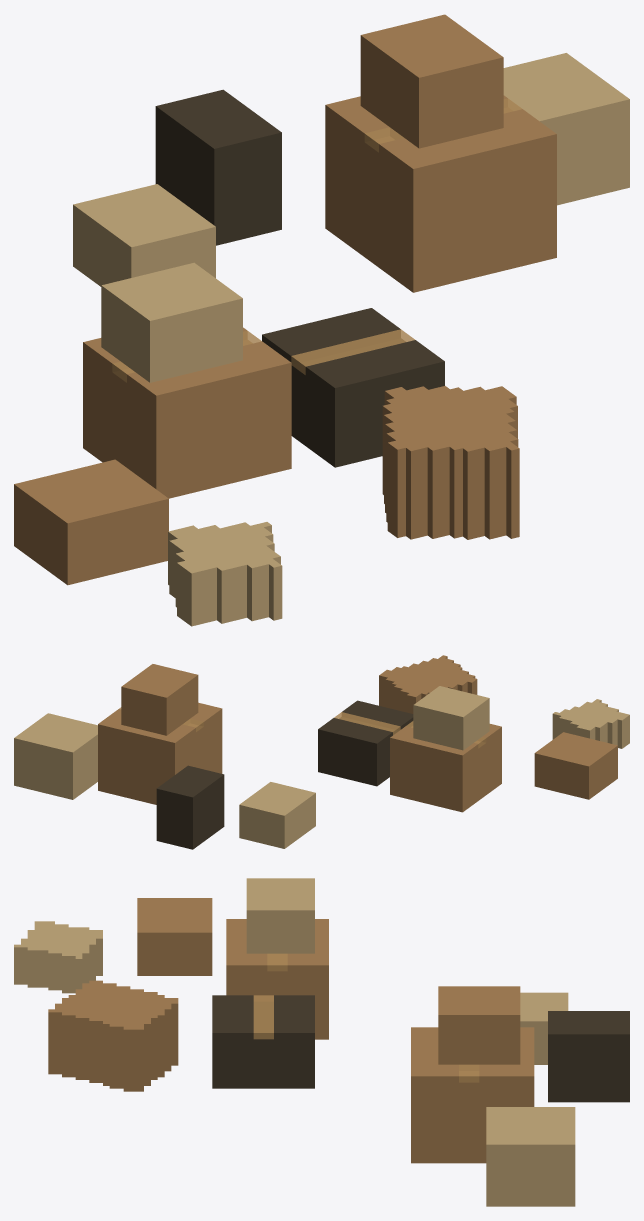
The model's file is overturned_delivery_van_parcels.glb.
3 views of the same model, one above another, from view 1: azimuth 30°, elevation 25°; view 2: azimuth 150°, elevation 25°; view 3: azimuth 270°, elevation 25° (orthographic). The views are drawn at different scales.
Visible parts, largest first — view 1: body:compound; view 2: body:compound; view 3: body:compound.
Boxes of the visible parts, bbox=[...] form: body:compound: bbox=[14, 14, 629, 626]; body:compound: bbox=[14, 655, 629, 849]; body:compound: bbox=[14, 878, 629, 1206].
Bounding box in the file's own units: 3 × 0.75 × 2.81.
